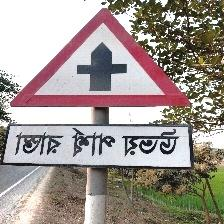Crossroad: (0, 7, 201, 173)
